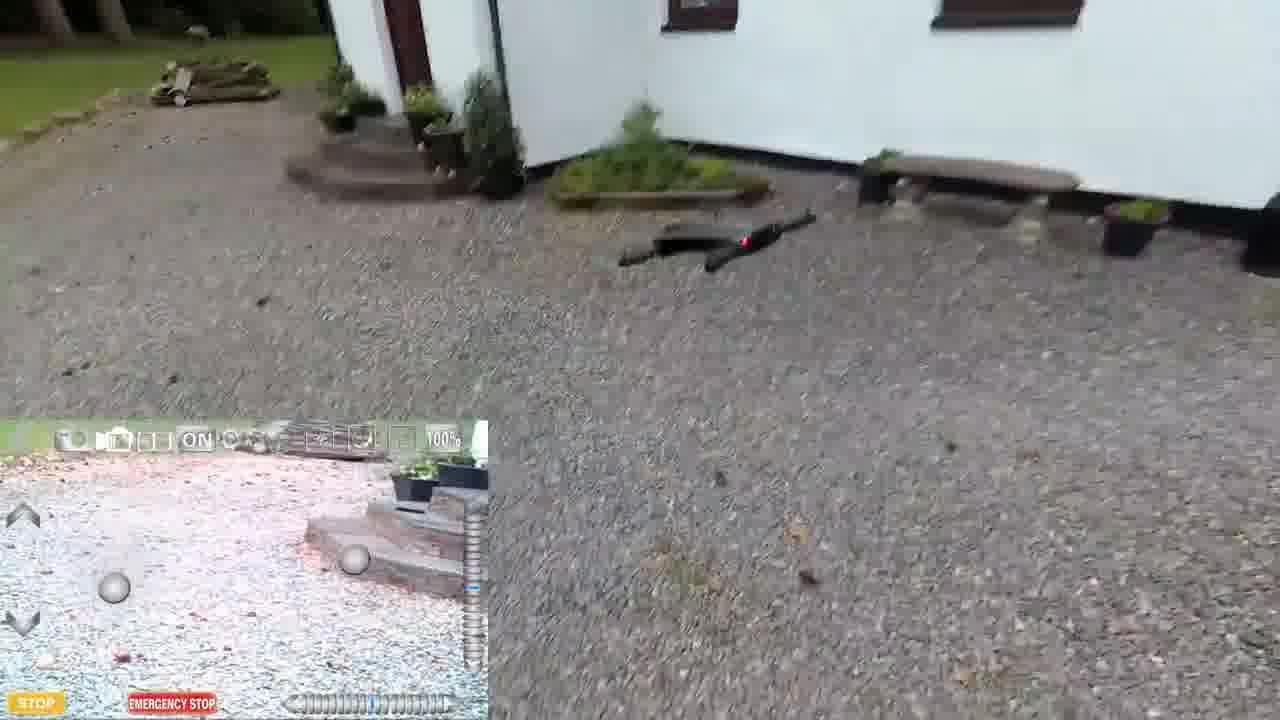drone: (613, 203, 820, 278)
